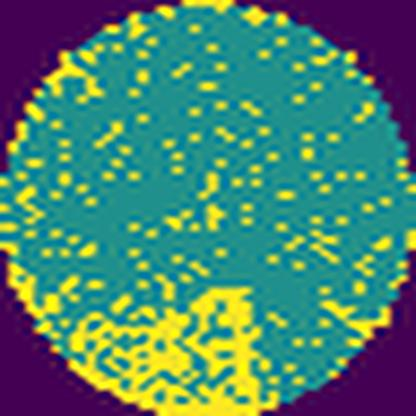Edge-Loc: (0, 282, 284, 416)
